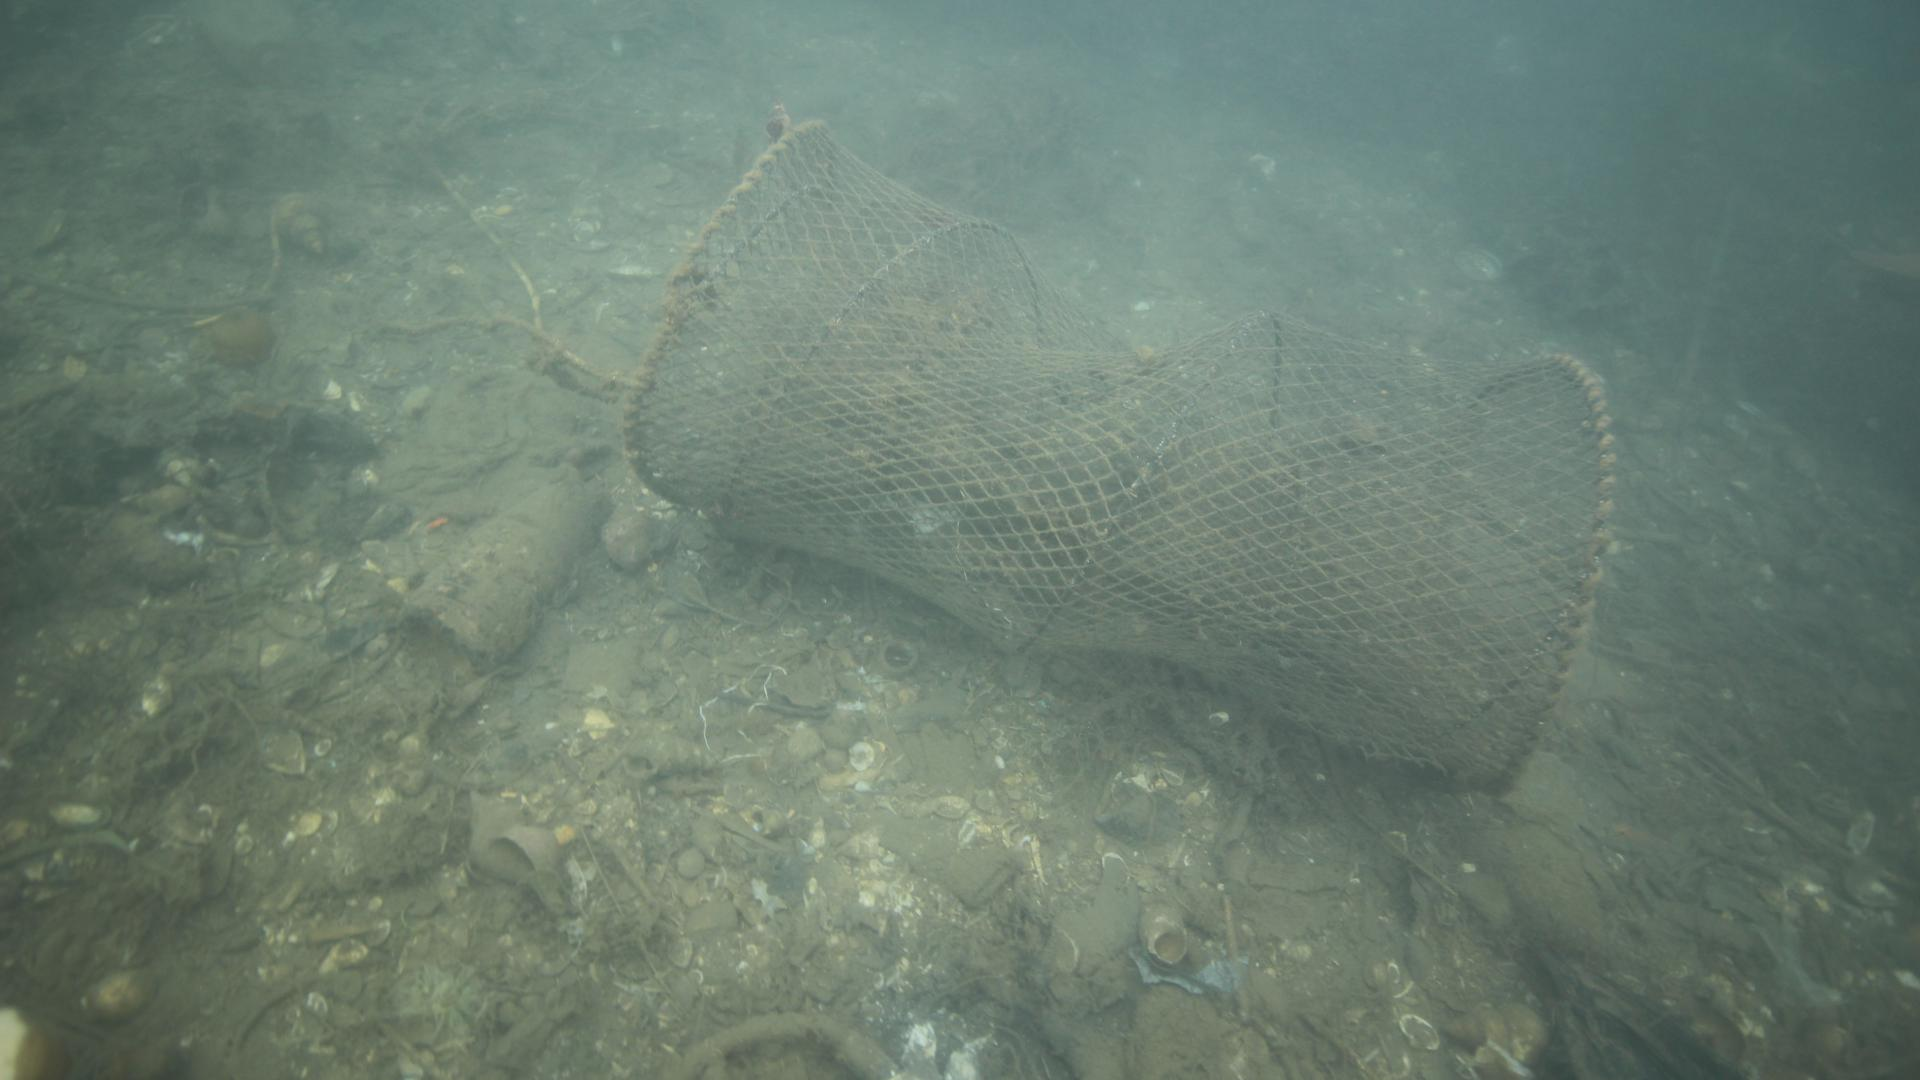spring fish trap: (620, 116, 1615, 793)
